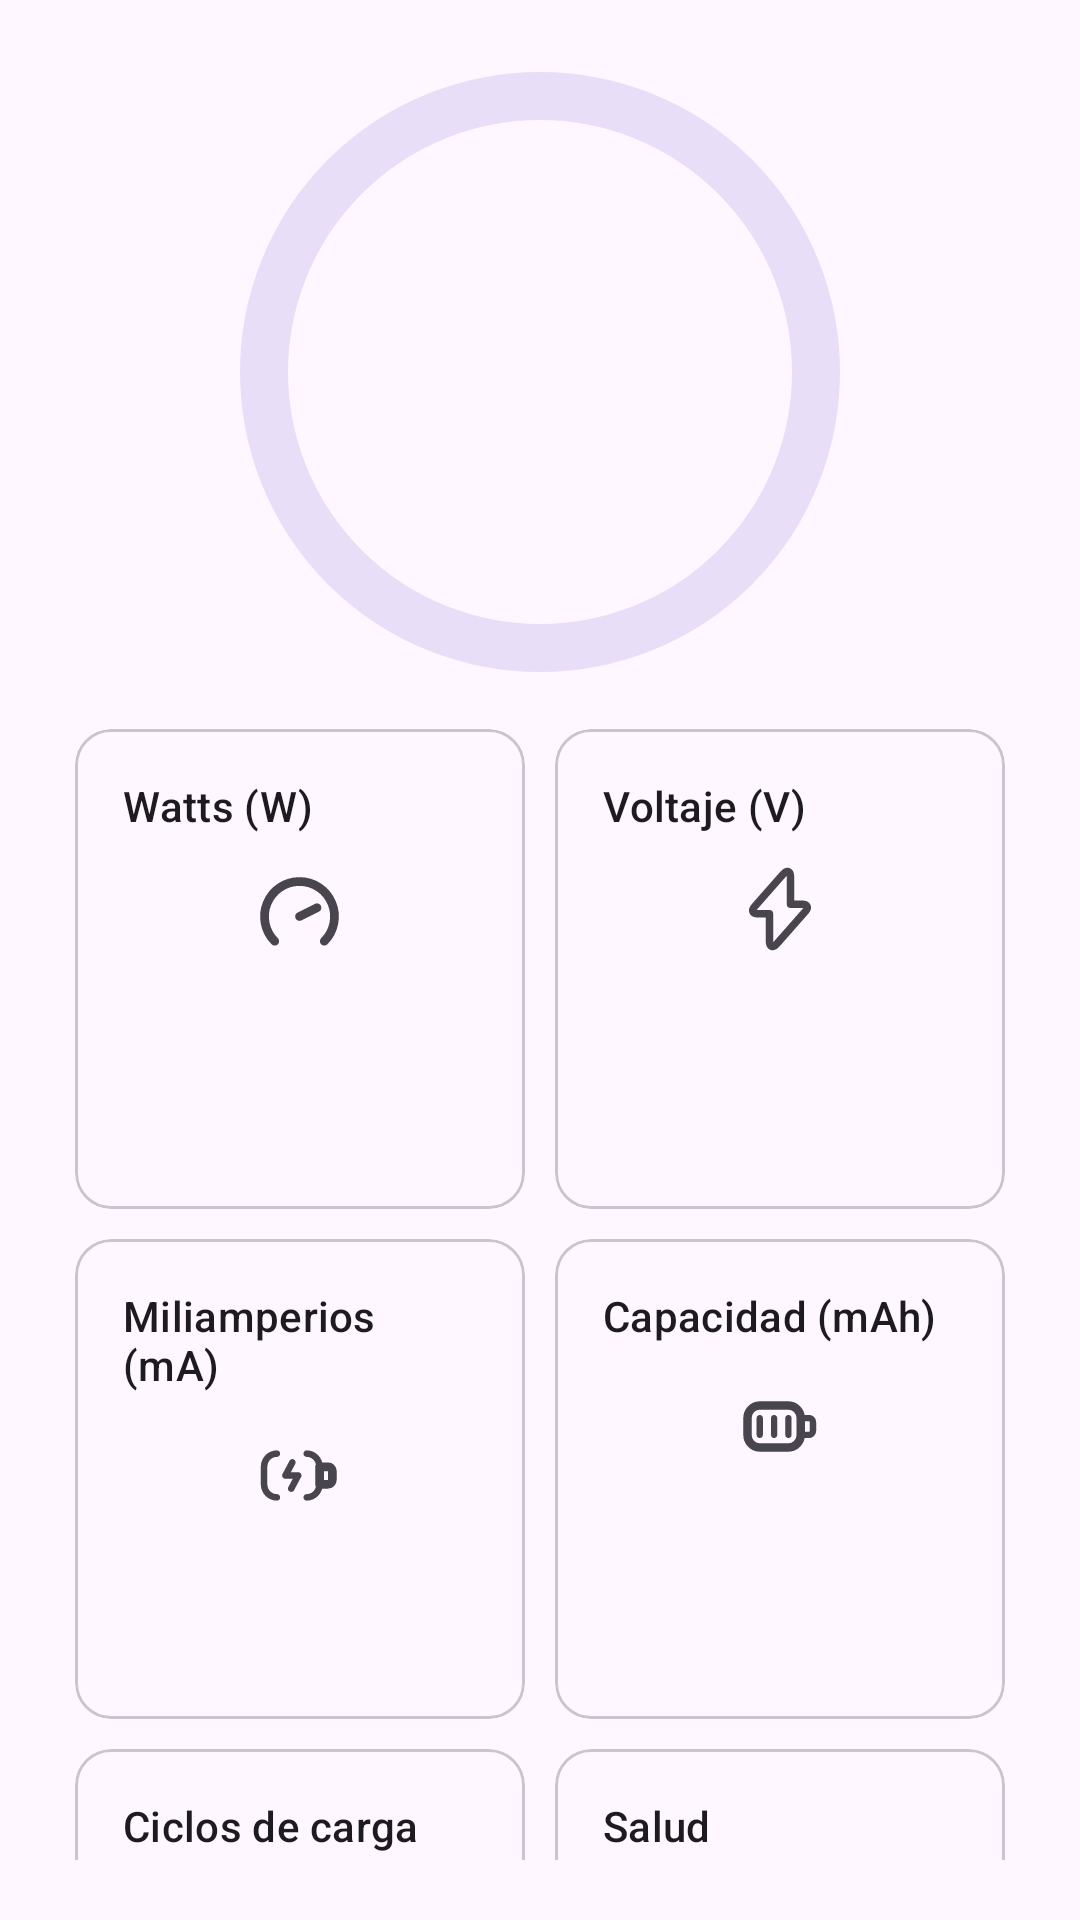

Where to tap for icons on this 1080x1920 app screen, as [x,y]:
capacity: [780,1426]
fast: [299,911]
